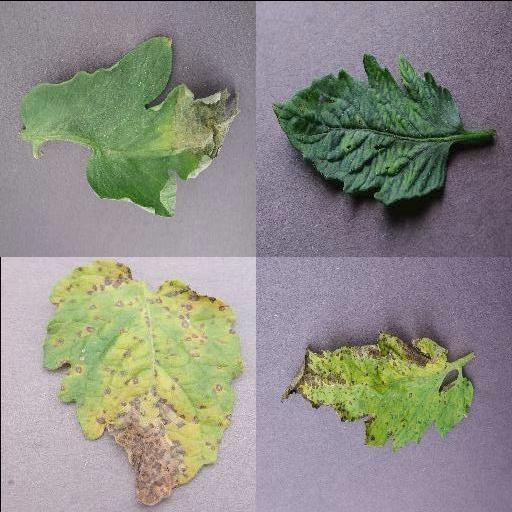Late Blight: (23, 33, 241, 217)
Mosaic Virus: (271, 50, 465, 206)
Septoria: (41, 257, 242, 505), (281, 333, 475, 445)
